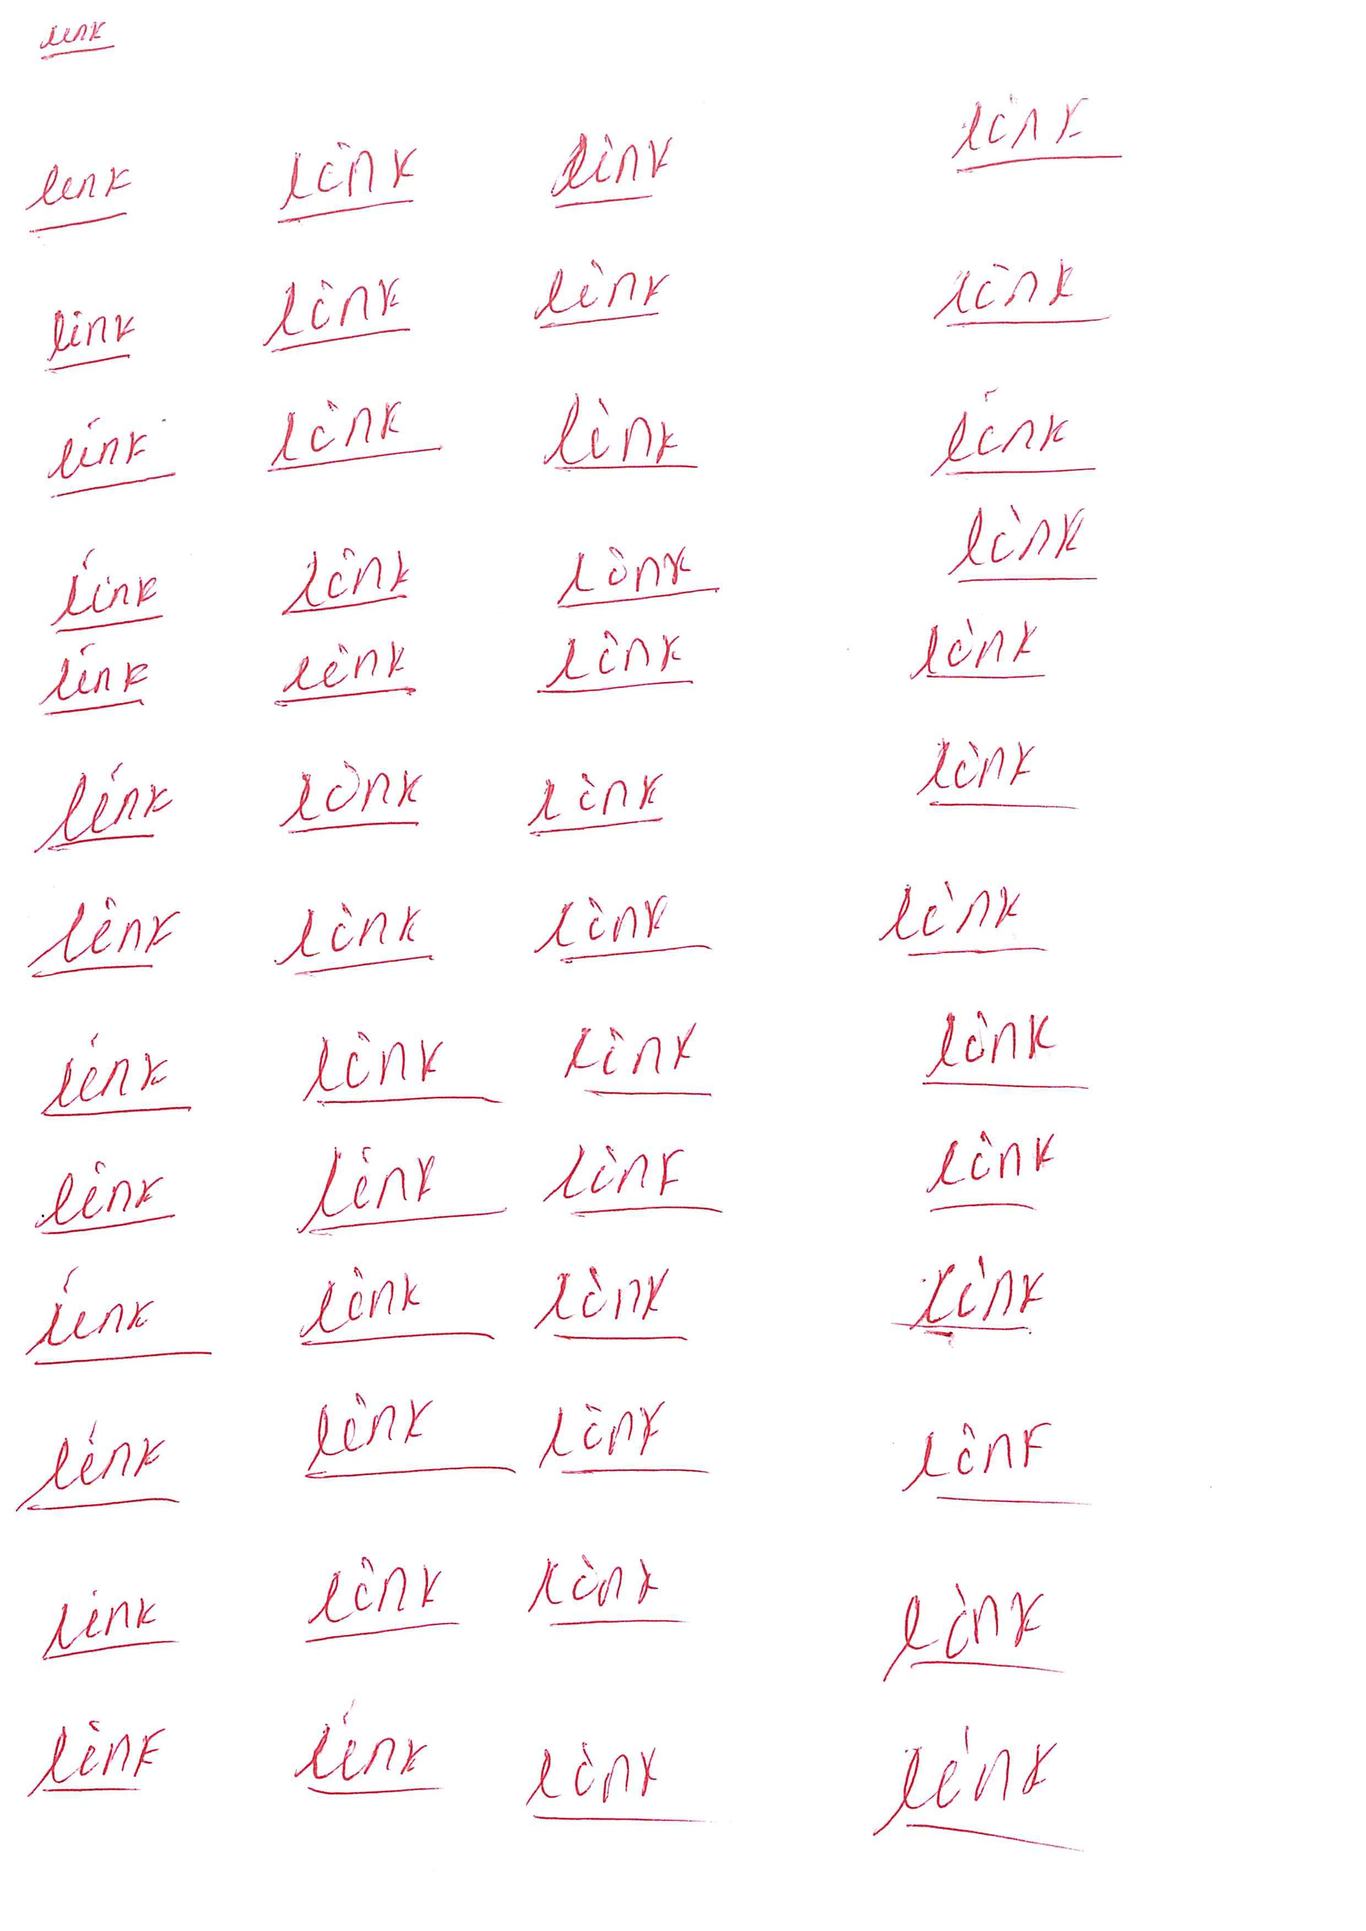Link: (862, 1723, 1076, 1841), (872, 1578, 1050, 1684), (288, 1138, 463, 1238), (21, 757, 179, 862), (9, 1421, 179, 1517), (922, 387, 1090, 482), (256, 393, 446, 476), (946, 95, 1129, 179), (16, 886, 179, 980), (297, 1552, 458, 1647), (526, 884, 689, 971), (272, 135, 421, 228), (268, 897, 435, 979), (537, 393, 696, 478), (928, 257, 1112, 330), (531, 617, 689, 699), (287, 1714, 436, 1801), (948, 495, 1090, 587), (896, 1254, 1050, 1337), (268, 757, 426, 837), (16, 1720, 171, 1801), (523, 251, 670, 336), (548, 537, 714, 611), (522, 1263, 671, 1344), (259, 274, 410, 353), (262, 637, 418, 713), (544, 126, 682, 211), (33, 1156, 174, 1239), (34, 417, 179, 497), (34, 1586, 174, 1666), (273, 543, 418, 620), (522, 766, 667, 841), (906, 614, 1053, 688), (35, 642, 161, 722), (52, 552, 173, 631), (19, 152, 139, 232), (38, 302, 142, 376)
